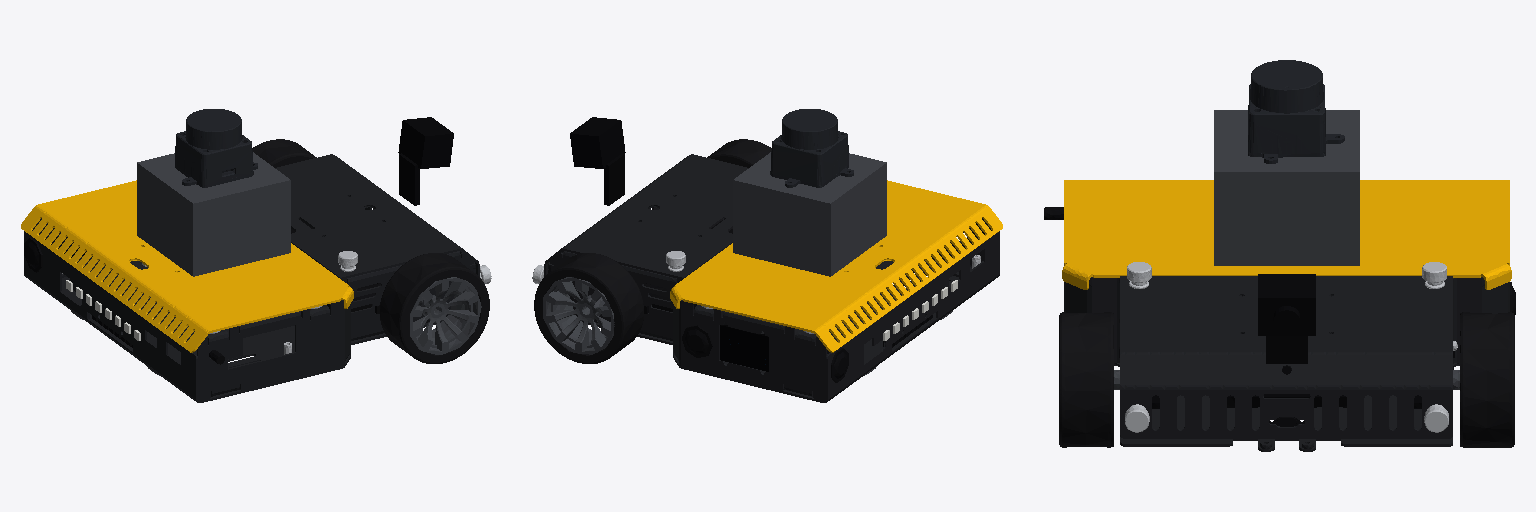
The robot description file, URDF, robot "tiki_mini":
<?xml version="1.0"?>
<!-- tiki_mini.urdf — generated by tools/gen_model.py from python/tiki/data/robot.json (do not edit).
     차체·바퀴·캐스터 메시는 기구 도면(STEP)에서, 바퀴·LiDAR 조인트는 제조사 URDF에서 가져왔고,
     카메라·IMU·OLED·LED 프레임은 교재 기반 추정값입니다.
     base_footprint(바닥, 바퀴축 중심 아래) -> base_link(바퀴축 높이 0.0325 m). x 앞, y 왼쪽, z 위 (REP-103). -->
<robot name="tiki_mini">
  <material name="black"><color rgba="0.15 0.155 0.17 1"/></material>
  <material name="yellow"><color rgba="0.96 0.72 0.04 1"/></material>
  <material name="vent"><color rgba="0.08 0.08 0.09 1"/></material>
  <material name="rubber"><color rgba="0.11 0.11 0.12 1"/></material>
  <material name="hub"><color rgba="0.28 0.29 0.31 1"/></material>
  <material name="camera"><color rgba="0.06 0.06 0.07 1"/></material>
  <material name="steel"><color rgba="0.75 0.76 0.78 1"/></material>
  <material name="lidar"><color rgba="0.16 0.17 0.19 1"/></material>
  <material name="oled_bezel"><color rgba="0.04 0.04 0.045 1"/></material>
  <material name="led"><color rgba="0.92 0.92 0.9 1"/></material>
  <material name="oled_screen"><color rgba="0.05 0.13 0.22 1"/></material>

  <link name="base_footprint"/>
  <joint name="base_joint" type="fixed">
    <parent link="base_footprint"/><child link="base_link"/>
    <origin xyz="0 0 0.0325" rpy="0 0 0"/>
  </joint>

  <link name="base_link">
    <visual><geometry><mesh filename="package://tiki_description/meshes/cad_body.stl"/></geometry><material name="black"/></visual>
    <visual><geometry><mesh filename="package://tiki_description/meshes/cad_cover.stl"/></geometry><material name="yellow"/></visual>
    <visual><geometry><mesh filename="package://tiki_description/meshes/cad_internals.stl"/></geometry><material name="vent"/></visual>
    <visual><geometry><mesh filename="package://tiki_description/meshes/cad_hardware.stl"/></geometry><material name="steel"/></visual>
    <visual><geometry><mesh filename="package://tiki_description/meshes/camera.stl"/></geometry><material name="camera"/></visual>
    <collision>
      <origin xyz="-0.0694 0 0.0030"/>
      <geometry><box size="0.222 0.216 0.0500"/></geometry>
    </collision>
    <inertial>
      <origin xyz="-0.0694 0 0.0030"/>
      <mass value="2.0"/>
      <inertia ixx="8.1927e-03" ixy="0" ixz="0" iyy="8.6307e-03" iyz="0" izz="1.5990e-02"/>
    </inertial>
  </link>

  <link name="left_wheel_link">
    <visual><geometry><mesh filename="package://tiki_description/meshes/cad_tire.stl"/></geometry><material name="rubber"/></visual>
    <visual><geometry><mesh filename="package://tiki_description/meshes/cad_hub.stl"/></geometry><material name="hub"/></visual>
    <collision><origin rpy="1.570796 0 0"/><geometry><cylinder radius="0.0325" length="0.0265"/></geometry></collision>
    <inertial><mass value="0.08"/><inertia ixx="2.581e-05" ixy="0" ixz="0" iyy="4.225e-05" iyz="0" izz="2.581e-05"/></inertial>
  </link>
  <joint name="left_wheel_joint" type="continuous">
    <parent link="base_link"/><child link="left_wheel_link"/>
    <origin xyz="0 0.0962 0" rpy="0 0 0.000000"/>
    <axis xyz="0 1 0"/>
  </joint>

  <link name="right_wheel_link">
    <visual><geometry><mesh filename="package://tiki_description/meshes/cad_tire.stl"/></geometry><material name="rubber"/></visual>
    <visual><geometry><mesh filename="package://tiki_description/meshes/cad_hub.stl"/></geometry><material name="hub"/></visual>
    <collision><origin rpy="1.570796 0 0"/><geometry><cylinder radius="0.0325" length="0.0265"/></geometry></collision>
    <inertial><mass value="0.08"/><inertia ixx="2.581e-05" ixy="0" ixz="0" iyy="4.225e-05" iyz="0" izz="2.581e-05"/></inertial>
  </link>
  <joint name="right_wheel_joint" type="continuous">
    <parent link="base_link"/><child link="right_wheel_link"/>
    <origin xyz="0 -0.0962 0" rpy="0 0 3.141593"/>
    <axis xyz="0 -1 0"/>
  </joint>

  <link name="caster_link">
    <visual><geometry><mesh filename="package://tiki_description/meshes/cad_caster.stl"/></geometry><material name="hub"/></visual>
    <collision><origin xyz="-0.1515 0.047 -0.0265"/><geometry><sphere radius="0.006"/></geometry></collision>
    <collision><origin xyz="-0.1515 -0.047 -0.0265"/><geometry><sphere radius="0.006"/></geometry></collision>
  </link>
  <joint name="caster_joint" type="fixed"><parent link="base_link"/><child link="caster_link"/></joint>

  <!-- 카메라: IMX219, 320x240에서 fx=fy=230.0 (교재 ArUco 예제와 같은 내부 파라미터), 아래로 8.0° -->
  <link name="camera_link"/>
  <joint name="camera_joint" type="fixed">
    <parent link="base_link"/><child link="camera_link"/>
    <origin xyz="0.06 0.0 0.0625" rpy="0 0.139626 0"/>
  </joint>
  <link name="camera_optical_link"/>
  <joint name="camera_optical_joint" type="fixed">
    <parent link="camera_link"/><child link="camera_optical_link"/>
    <origin xyz="0 0 0" rpy="-1.570796 0 -1.570796"/>
  </joint>

  <link name="imu_link"/>
  <joint name="imu_joint" type="fixed">
    <parent link="base_link"/><child link="imu_link"/>
    <origin xyz="-0.03 0.0 -0.0025"/>
  </joint>

  <!-- LiDAR (옵션 액세서리): 받침 = 제조사 URDF, 센서 모양 = MentorPi URDF의 lidar_Link 메시 (© Hiwonder) -->
  <link name="laser_mount_link">
    <visual><geometry><mesh filename="package://tiki_description/meshes/lidar_mount.stl"/></geometry><material name="hub"/></visual>
    <visual><geometry><mesh filename="package://tiki_description/meshes/lidar.stl"/></geometry><material name="lidar"/></visual>
  </link>
  <joint name="laser_mount_joint" type="fixed">
    <parent link="base_link"/><child link="laser_mount_link"/>
    <origin xyz="-0.1025 0.0 0.0290"/>
  </joint>
  <link name="laser_link"/>
  <joint name="laser_joint" type="fixed">
    <parent link="base_link"/><child link="laser_link"/>
    <origin xyz="-0.1025 0.0 0.1012" rpy="0 0 0"/>
  </joint>

  <!-- 표시 장치 위치 (시각화용 프레임) — OLED는 왼쪽 옆판 뒤쪽의 사각 구멍 안 -->
  <link name="oled_link">
    <!-- 1.3인치 OLED 모듈: 옆판 구멍을 채우는 검은 테두리 + 화면 (x = 옆판 바깥쪽, y = 뒤쪽, z = 위).
         웹 뷰어는 화면 바로 앞에 글자를 그린 판(canvas)을 덧붙인다. -->
    <visual><geometry><box size="0.002 0.0350 0.0240"/></geometry><material name="oled_bezel"/></visual>
    <visual><origin xyz="0.0008 0 0"/><geometry><box size="0.0004 0.0310 0.0155"/></geometry><material name="oled_screen"/></visual>
  </link>
  <joint name="oled_joint" type="fixed">
    <parent link="base_link"/><child link="oled_link"/>
    <origin xyz="-0.117 0.1055 0.0040" rpy="0 0 1.570796"/>
  </joint>
  <link name="led_link">
    <!-- WS2812 RGB LED 8개 (x = 뒷면 바깥쪽, 0번 = 뒤에서 볼 때 왼쪽). 웹 뷰어는 같은 자리에 색이 바뀌는 LED를 덧그린다. -->
    <visual><origin xyz="0.0006 -0.0420 0"/><geometry><box size="0.0016 0.0056 0.0056"/></geometry><material name="led"/></visual>
    <visual><origin xyz="0.0006 -0.0300 0"/><geometry><box size="0.0016 0.0056 0.0056"/></geometry><material name="led"/></visual>
    <visual><origin xyz="0.0006 -0.0180 0"/><geometry><box size="0.0016 0.0056 0.0056"/></geometry><material name="led"/></visual>
    <visual><origin xyz="0.0006 -0.0060 0"/><geometry><box size="0.0016 0.0056 0.0056"/></geometry><material name="led"/></visual>
    <visual><origin xyz="0.0006 0.0060 0"/><geometry><box size="0.0016 0.0056 0.0056"/></geometry><material name="led"/></visual>
    <visual><origin xyz="0.0006 0.0180 0"/><geometry><box size="0.0016 0.0056 0.0056"/></geometry><material name="led"/></visual>
    <visual><origin xyz="0.0006 0.0300 0"/><geometry><box size="0.0016 0.0056 0.0056"/></geometry><material name="led"/></visual>
    <visual><origin xyz="0.0006 0.0420 0"/><geometry><box size="0.0016 0.0056 0.0056"/></geometry><material name="led"/></visual>
  </link>
  <joint name="led_joint" type="fixed">
    <parent link="base_link"/><child link="led_link"/>
    <origin xyz="-0.1809 0 0.0020" rpy="0 0 3.141593"/>
  </joint>
</robot>

--- Render facts (derived) ---
The picture shows the robot from 3 angles, left to right: view 1: azimuth 30°, elevation 25°; view 2: azimuth 150°, elevation 25°; view 3: azimuth 270°, elevation 25°; orthographic projection.
Robot: tiki_mini — 12 links, 11 joints (2 continuous, 9 fixed); root link base_footprint; default pose: all joints at 0.
Links seen in each view (by area): view 1: base_link, laser_mount_link, right_wheel_link, left_wheel_link; view 2: base_link, laser_mount_link, left_wheel_link, oled_link, right_wheel_link; view 3: base_link, laser_mount_link, left_wheel_link, right_wheel_link.
Boxes of the visible links, x1,y1,x2,y2 form: base_link: [21, 117, 491, 402]; laser_mount_link: [137, 109, 290, 276]; right_wheel_link: [380, 253, 489, 363]; left_wheel_link: [252, 139, 316, 167]; base_link: [532, 117, 1002, 402]; laser_mount_link: [733, 109, 886, 276]; left_wheel_link: [534, 253, 643, 363]; oled_link: [720, 325, 768, 371]; right_wheel_link: [707, 139, 771, 167]; base_link: [1044, 180, 1515, 451]; laser_mount_link: [1214, 60, 1359, 265]; left_wheel_link: [1453, 312, 1514, 447]; right_wheel_link: [1059, 312, 1119, 447].
Size in the robot's own frame: 0.2471 by 0.2263 by 0.1465 metres.
12 mesh visuals loaded from 10 distinct referenced files (10 binary STL).
